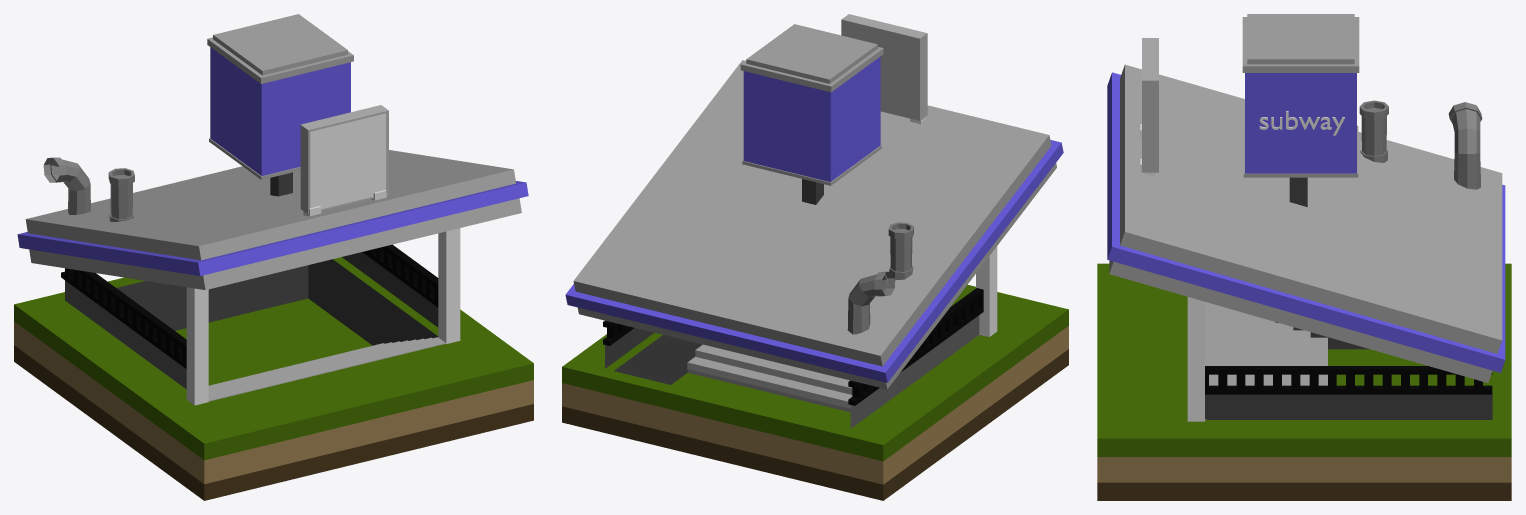
The model's file is SubwayPrefab.fbx.
The picture shows the model from 3 angles, left to right: view 1: azimuth 30°, elevation 25°; view 2: azimuth 150°, elevation 25°; view 3: azimuth 270°, elevation 25°; orthographic projection. The views are drawn at different scales.
Parts seen in each view (by area): view 1: subway ground, Plane.045, subway, Cube.078, Plane.048, Cube.086, Cube.084, Cube.081, Plane.047, Cube.085, Plane.046, Cylinder.011 (+1 smaller); view 2: Plane.045, subway ground, subway, Cube.078, Plane.048, Plane.047, Cube.086, Cylinder.011, Cube.084, Cylinder.012, Plane.046; view 3: Plane.045, subway ground, subway, Plane.046, Plane.048, Cube.085, Cylinder.011, Cube.078, Cube.081, Cylinder.012, Text.025, Cube.082.
Part boxes in pixels (left/top/right/bottom): subway ground: left=14, top=257, right=533, bottom=500; Plane.045: left=17, top=150, right=528, bottom=290; subway: left=207, top=14, right=353, bottom=179; Cube.078: left=300, top=105, right=388, bottom=214; Plane.048: left=208, top=337, right=445, bottom=401; Cube.086: left=61, top=268, right=186, bottom=368; Cube.084: left=186, top=287, right=208, bottom=405; Cube.081: left=438, top=228, right=460, bottom=343; Plane.047: left=65, top=280, right=186, bottom=389; Cube.085: left=362, top=244, right=438, bottom=307; Plane.046: left=342, top=252, right=438, bottom=327; Cylinder.011: left=43, top=157, right=90, bottom=214; Plane.045: left=565, top=60, right=1063, bottom=389; subway ground: left=562, top=284, right=1068, bottom=500; subway: left=740, top=24, right=883, bottom=185; Cube.078: left=841, top=14, right=927, bottom=120; Plane.048: left=687, top=334, right=983, bottom=412; Plane.047: left=850, top=315, right=979, bottom=428; Cube.086: left=848, top=288, right=983, bottom=405; Cylinder.011: left=847, top=271, right=895, bottom=334; Cube.084: left=976, top=246, right=997, bottom=336; Cylinder.012: left=888, top=222, right=913, bottom=280; Plane.046: left=605, top=328, right=653, bottom=368; Plane.045: left=1107, top=64, right=1505, bottom=382; subway ground: left=1097, top=263, right=1511, bottom=500; subway: left=1242, top=14, right=1359, bottom=177; Plane.046: left=1205, top=393, right=1492, bottom=419; Plane.048: left=1205, top=302, right=1327, bottom=419; Cube.085: left=1205, top=366, right=1492, bottom=394; Cylinder.011: left=1448, top=102, right=1482, bottom=189; Cube.078: left=1142, top=38, right=1158, bottom=172; Cube.081: left=1187, top=297, right=1204, bottom=421; Cylinder.012: left=1359, top=100, right=1388, bottom=162; Text.025: left=1259, top=111, right=1344, bottom=135; Cube.082: left=1289, top=177, right=1307, bottom=206.
Size of the model in its own units: 208 by 213 by 208.
